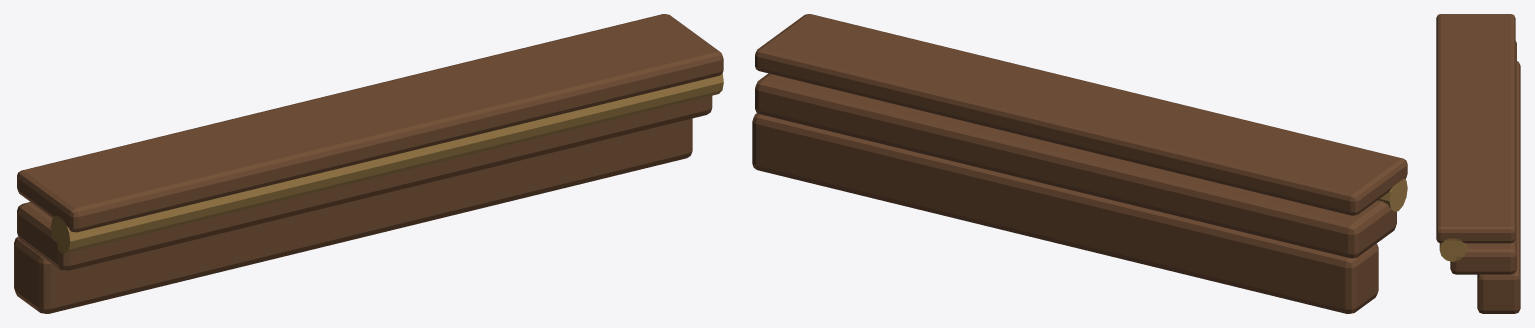
The model's file is crown_molding.glb.
3 views of the same model, side by side, from view 1: azimuth 30°, elevation 25°; view 2: azimuth 150°, elevation 25°; view 3: azimuth 270°, elevation 25° (orthographic). The views are drawn at different scales.
Parts seen in each view (by area): view 1: CrownCap, CrownBase, CrownStep, CrownBead; view 2: CrownCap, CrownBase, CrownStep, CrownBead; view 3: CrownCap, CrownBase, CrownStep, CrownBead.
Part boxes in pixels (x1,y1,x2,y2): CrownCap: (17, 14, 723, 232); CrownBase: (14, 118, 692, 313); CrownStep: (17, 96, 712, 270); CrownBead: (50, 74, 723, 253); CrownCap: (755, 14, 1407, 215); CrownBase: (752, 113, 1378, 313); CrownStep: (755, 73, 1396, 258); CrownBead: (1378, 178, 1407, 211); CrownCap: (1436, 14, 1515, 243); CrownBase: (1477, 61, 1520, 313); CrownStep: (1450, 41, 1516, 274); CrownBead: (1439, 238, 1466, 261).
Size of the model in its own units: 1 by 0.1885 by 0.165.
